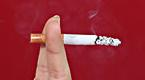smoke: (30, 33, 122, 47)
